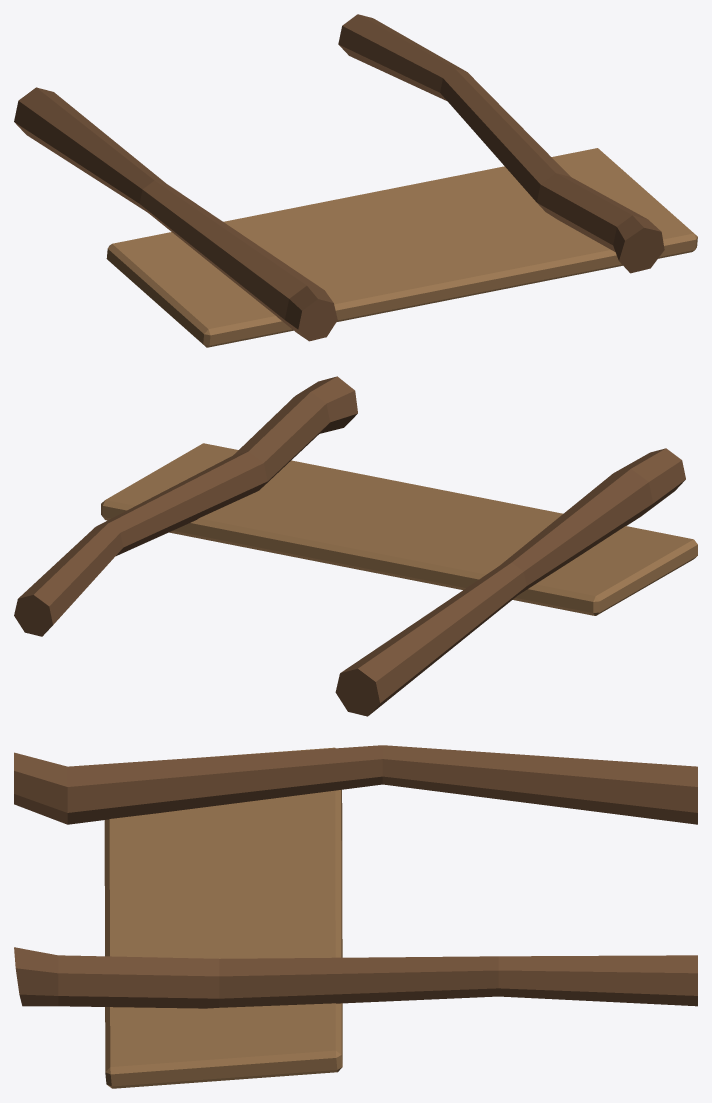
File: Panel_17.fbx
3 views of the same model, one above another, from view 1: azimuth 30°, elevation 25°; view 2: azimuth 150°, elevation 25°; view 3: azimuth 270°, elevation 25° (orthographic). The views are drawn at different scales.
Parts seen in each view (by area): view 1: Poteau 2*1 LOW Petit.002; view 2: Poteau 2*1 LOW Petit.002; view 3: Poteau 2*1 LOW Petit.002.
Boxes of the visible parts, box(x1,y1,x2,y2) form: Poteau 2*1 LOW Petit.002: box(14, 14, 697, 347); Poteau 2*1 LOW Petit.002: box(14, 376, 697, 716); Poteau 2*1 LOW Petit.002: box(14, 745, 697, 1088).
Size of the model in its own units: 77.56 by 13.38 by 79.74.
